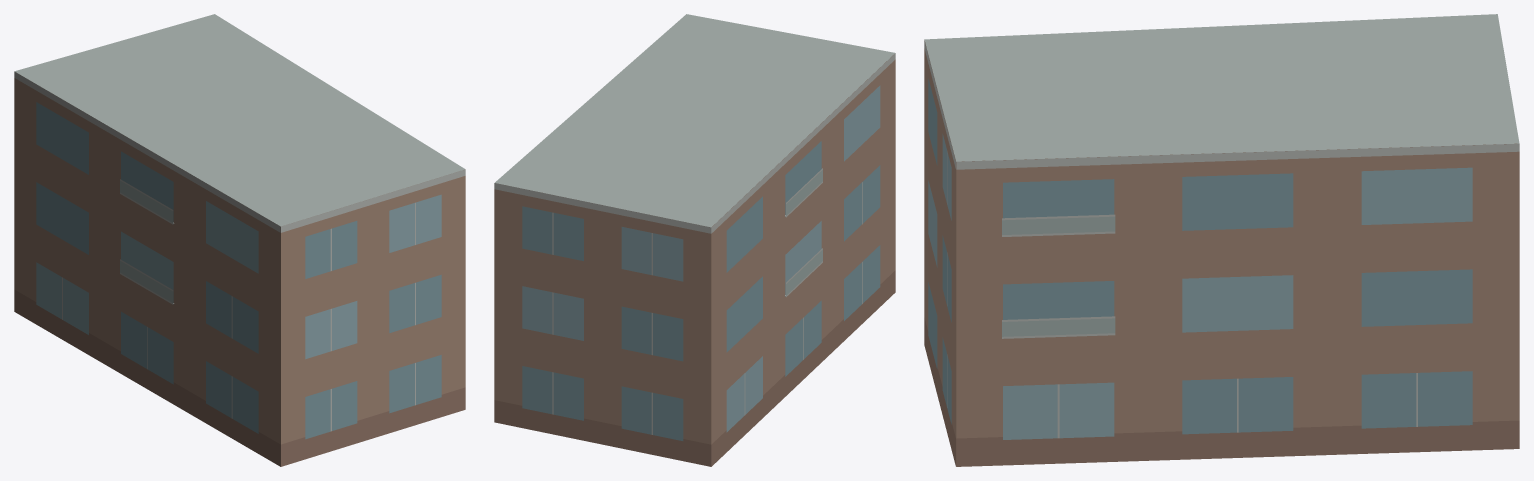
File: survey-upis-32922460.glb
The picture shows the model from 3 angles, left to right: view 1: azimuth 30°, elevation 25°; view 2: azimuth 150°, elevation 25°; view 3: azimuth 270°, elevation 25°; orthographic projection. The views are drawn at different scales.
Parts seen in each view (by area): view 1: survey-upis-32922460.tmp; view 2: survey-upis-32922460.tmp; view 3: survey-upis-32922460.tmp.
Boxes of the visible parts, box(x1,y1,x2,y2) form: survey-upis-32922460.tmp: box(14, 14, 465, 466); survey-upis-32922460.tmp: box(494, 14, 895, 466); survey-upis-32922460.tmp: box(924, 14, 1519, 466).
Bounding box in the file's own units: 9.5 × 9.15 × 16.18.
